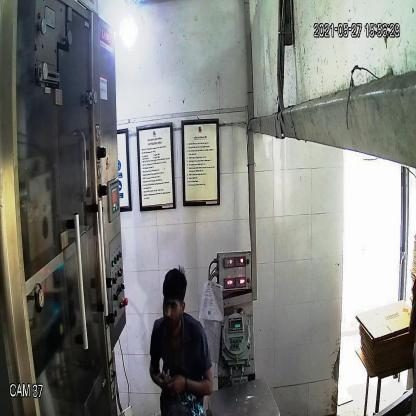no_goggles: (158, 293, 187, 315)
